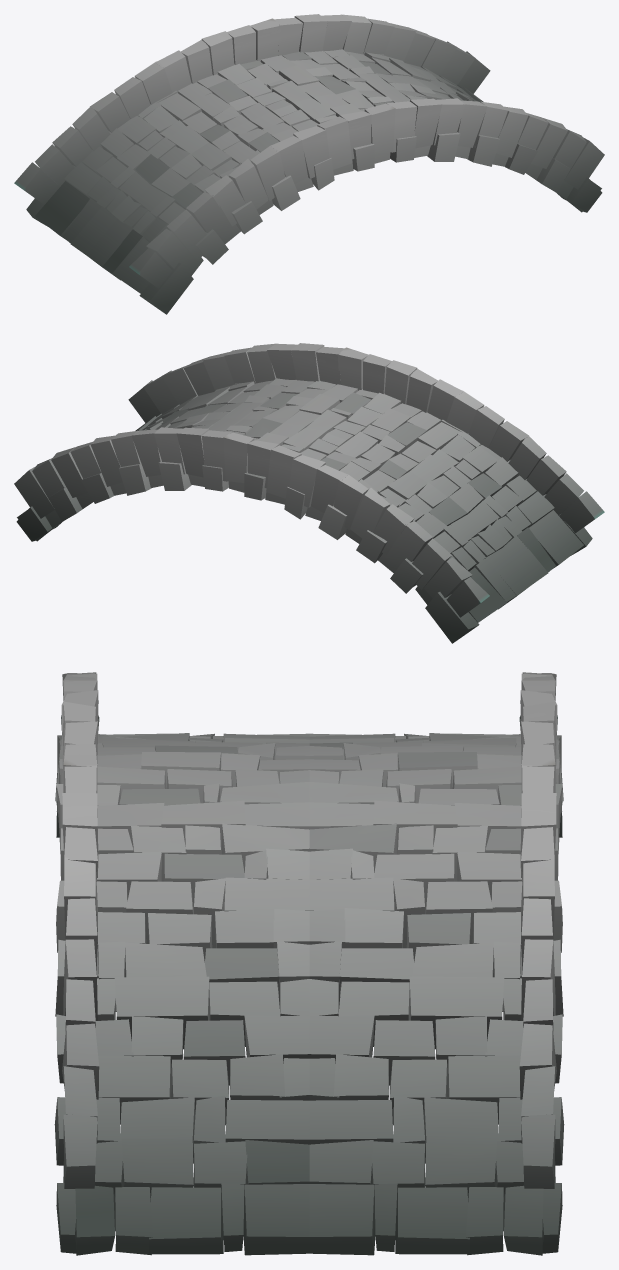
Rendered from bridge.fbx.
The picture shows the model from 3 angles, top to bottom: view 1: azimuth 30°, elevation 25°; view 2: azimuth 150°, elevation 25°; view 3: azimuth 270°, elevation 25°; orthographic projection. The views are drawn at different scales.
Visible parts, largest first — view 1: Wall.003; view 2: Wall.003; view 3: Wall.003.
Boxes of the visible parts, bbox=[...] form: Wall.003: bbox=[14, 14, 604, 314]; Wall.003: bbox=[14, 343, 604, 643]; Wall.003: bbox=[54, 672, 564, 1255].
Size of the model in its own units: 2342 by 731 by 1103.
